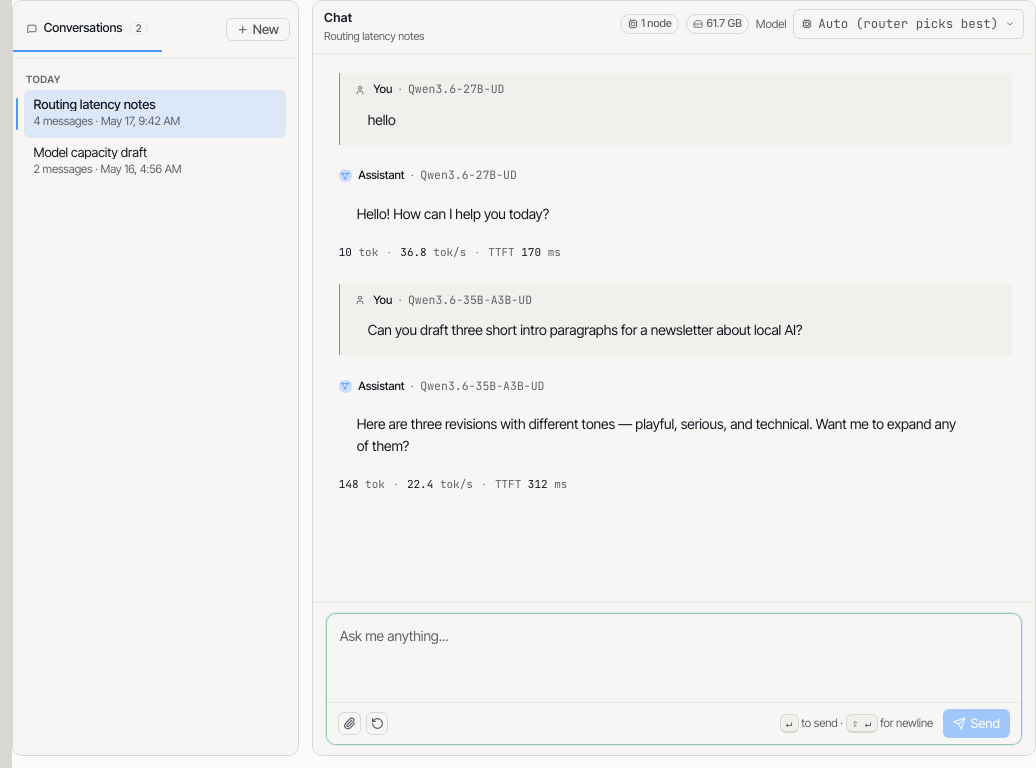
Test: ChatPage › shows auto as the first chat model selector option by default
What coordinates should you click on to do the following:
click the dropdown named "Select model"
I would click on:
 (908, 24)
Its box is [793,9,1024,39].
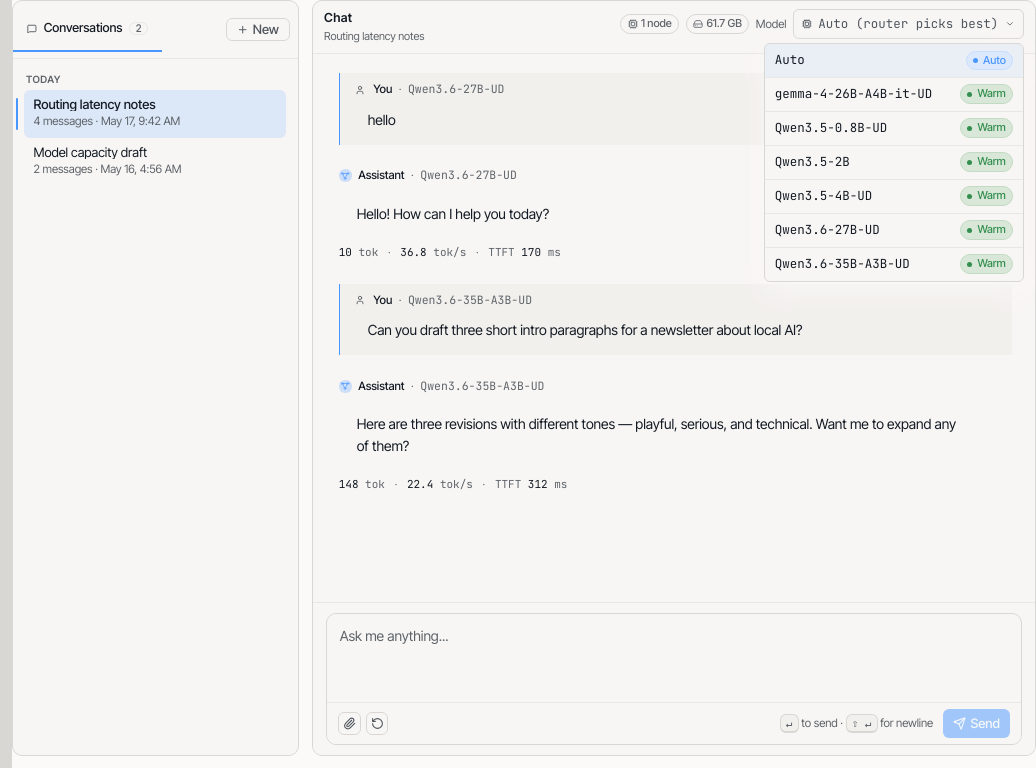
Now the option "Auto Auto" is shown, box [765,44,1023,78]
